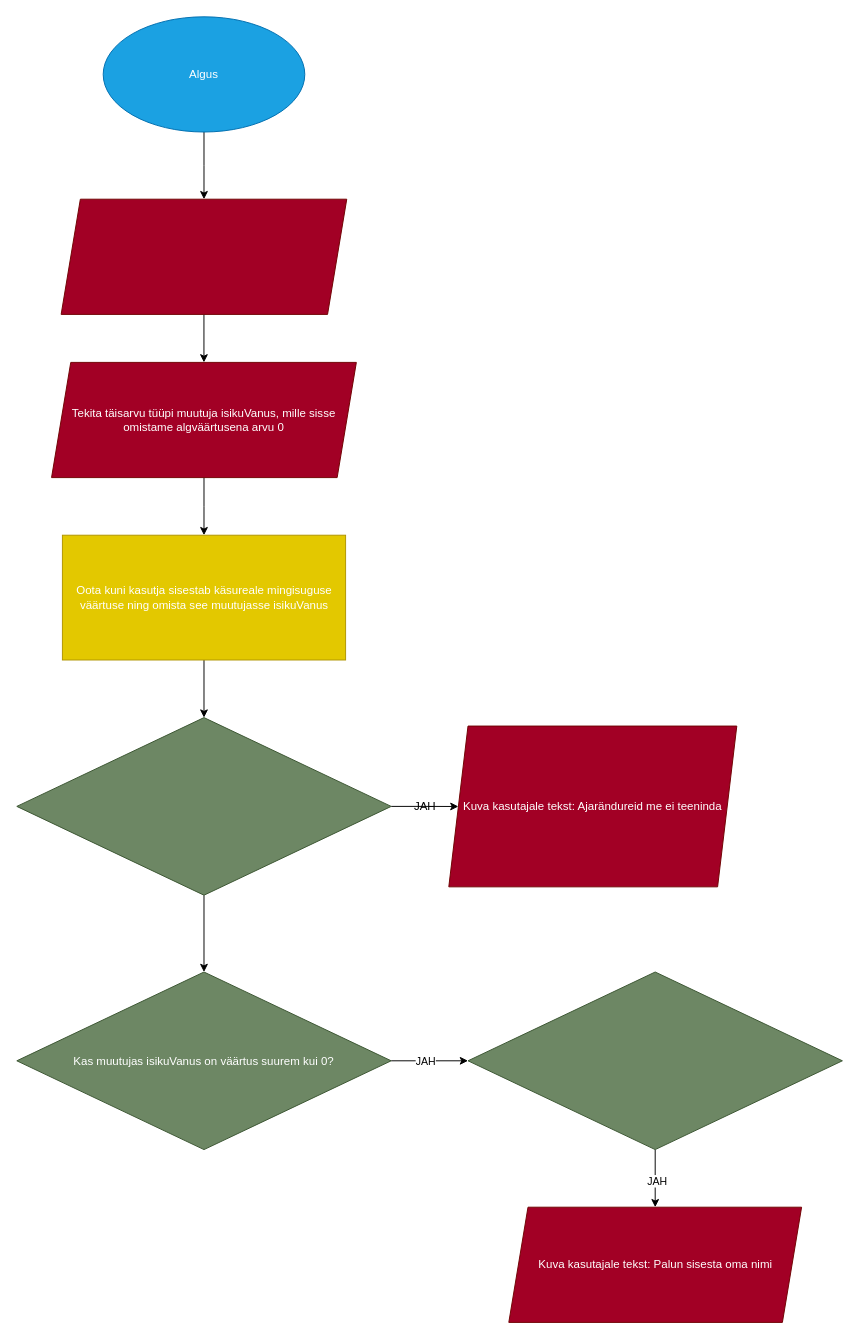
This 859x1339 diagram has some shape labels left out. The centre of each missing label's shape, as x and y in pixels:
Kas muutujas isikuVanus on väärtus väiksem kui 18?: point (654, 1060)
Kas muutujas isikuVanus on väärtus väiksem või võrdne 0 arvuga?: point (203, 806)
Kuva kasutajale tekst: Palun sisesta oma vanus: point (203, 256)
